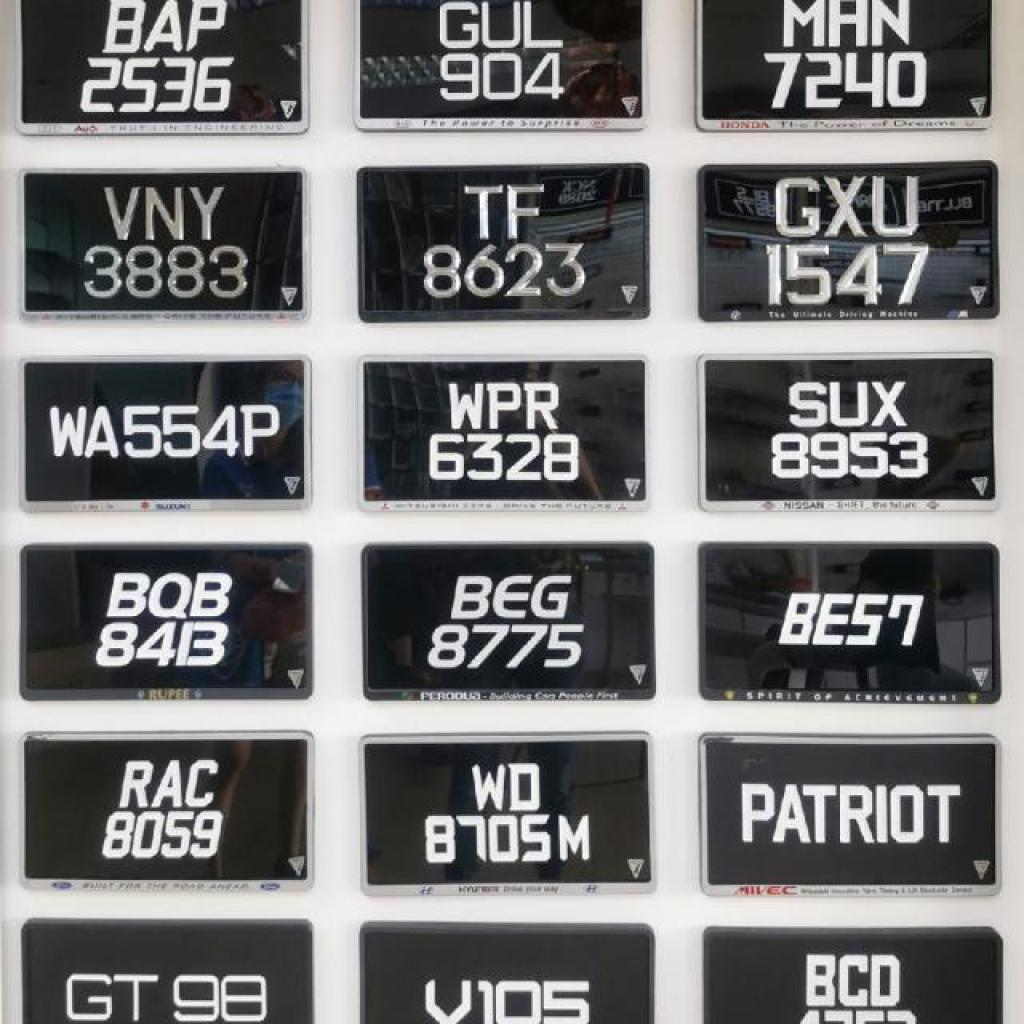car plate: (698, 544, 998, 702), (699, 736, 997, 894), (698, 162, 997, 318), (698, 352, 995, 509), (21, 731, 309, 890), (357, 162, 646, 320), (363, 731, 651, 888), (19, 544, 307, 698), (358, 357, 645, 509), (363, 544, 650, 696), (21, 357, 306, 509), (21, 168, 306, 317), (19, 0, 304, 133), (696, 0, 990, 128), (354, 0, 640, 128)
